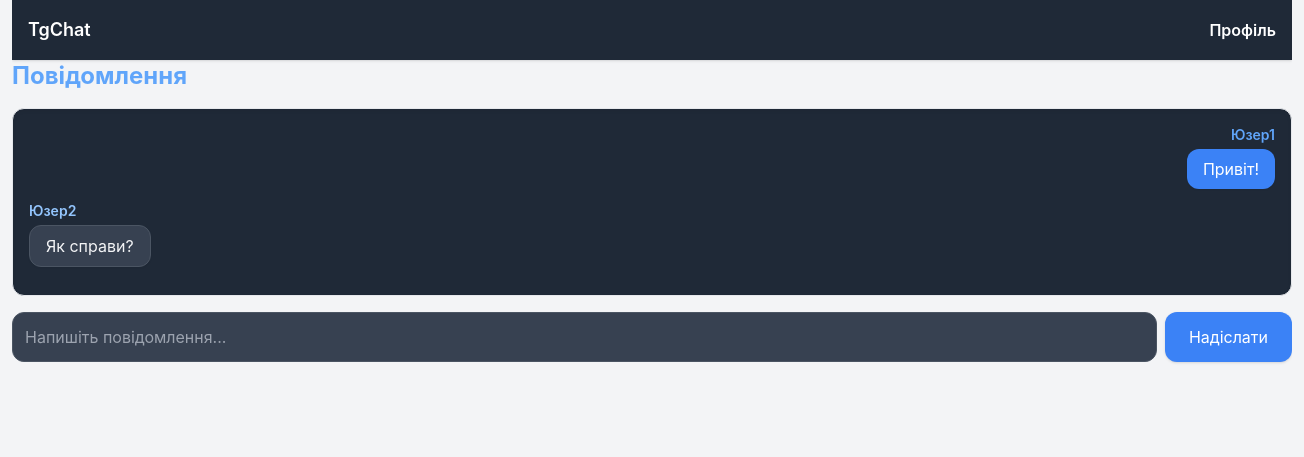
Test: ChatPage E2E › завантажує і показує повідомлення, надсилає нове
Expected: the text "Привіт!" is shown, x1=1187 y1=149 x2=1275 y2=189
Expected: the text "Як справи?" is shown, x1=29 y1=225 x2=151 y2=267
Type "Новое повідомлення" into the field with placeholder "Напишіть повідомлення..." at {"x": 585, "y": 337}, box x1=12 y1=312 x2=1157 y2=362
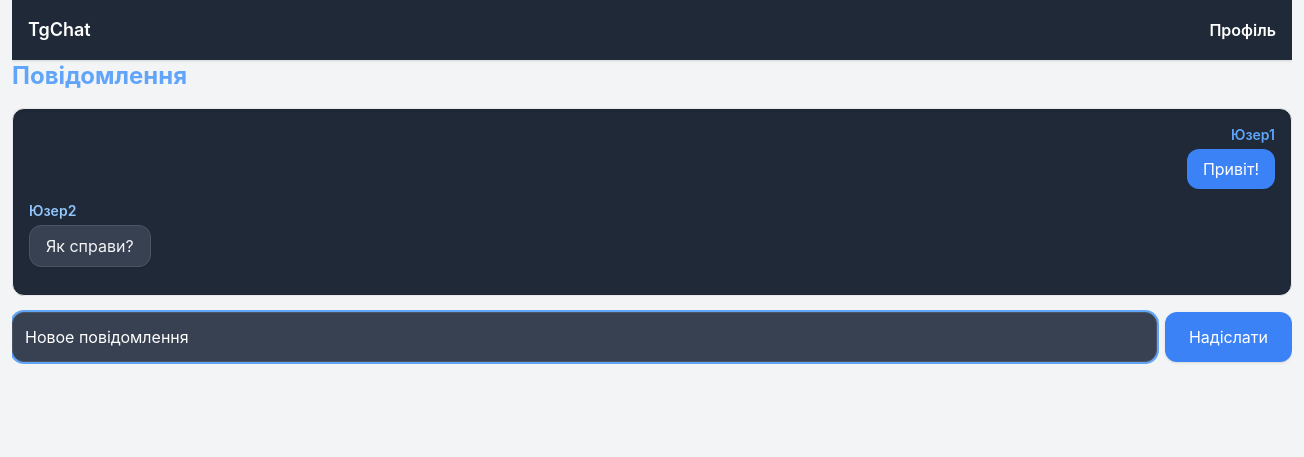
Submit the form, box x1=12 y1=312 x2=1292 y2=362
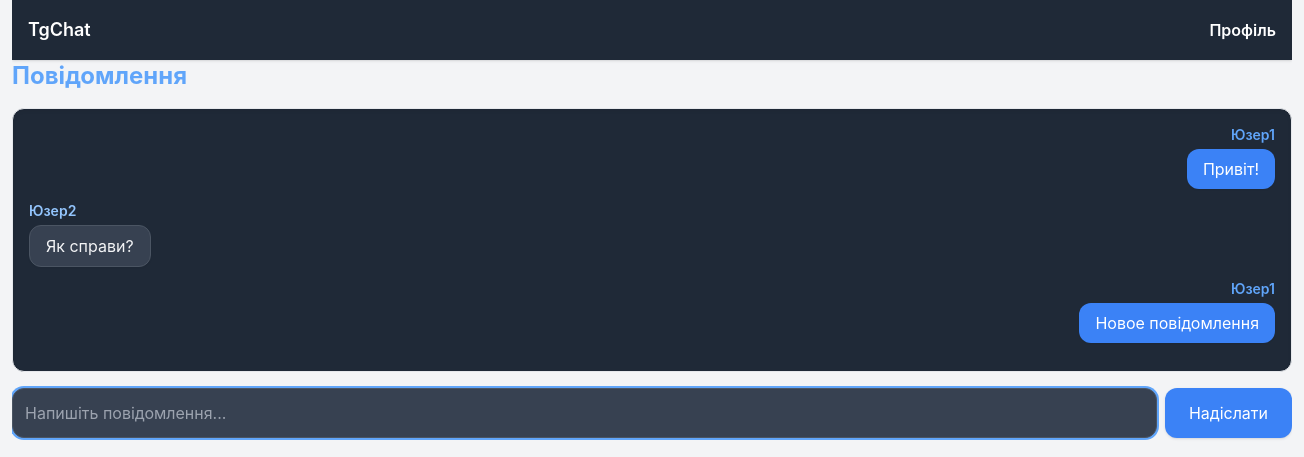
Now the text "Новое повідомлення" is shown, box x1=1079 y1=303 x2=1275 y2=343
